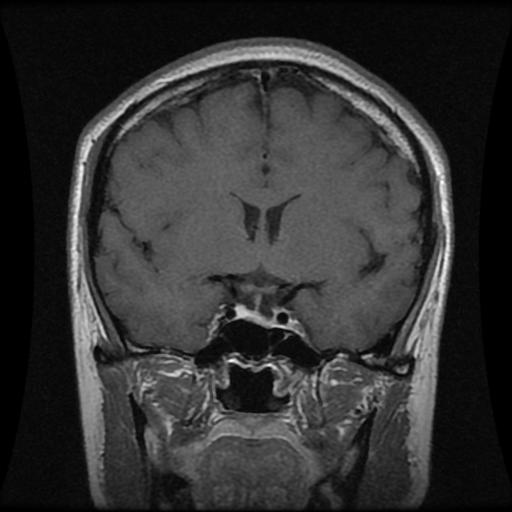Pituirity_tumour: (235, 304, 276, 328)
